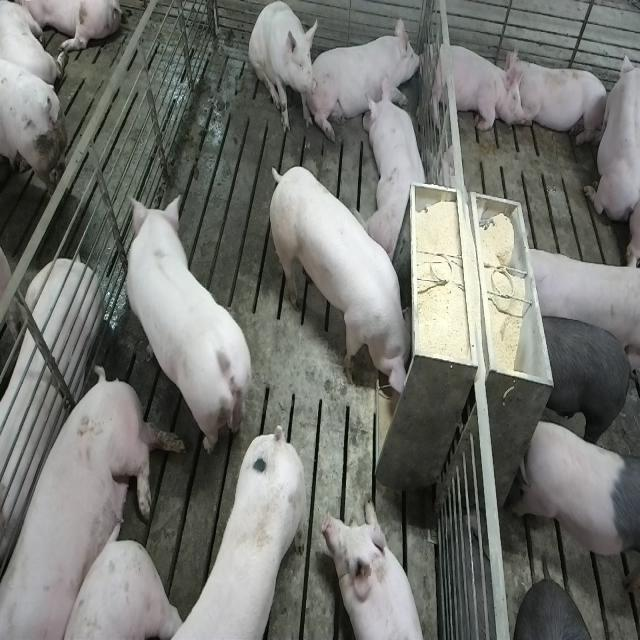Feeding: (272, 164, 421, 399)
Lateral_lying: (3, 367, 185, 640), (0, 251, 102, 585)
Sitting: (249, 2, 319, 137)
Standing: (142, 426, 313, 640), (123, 194, 250, 472), (520, 413, 638, 575), (517, 240, 637, 380), (540, 310, 634, 442)
Sternal_lying: (314, 11, 425, 142), (326, 503, 432, 640), (366, 80, 430, 258), (584, 41, 637, 227), (509, 52, 610, 148), (424, 36, 518, 134)
